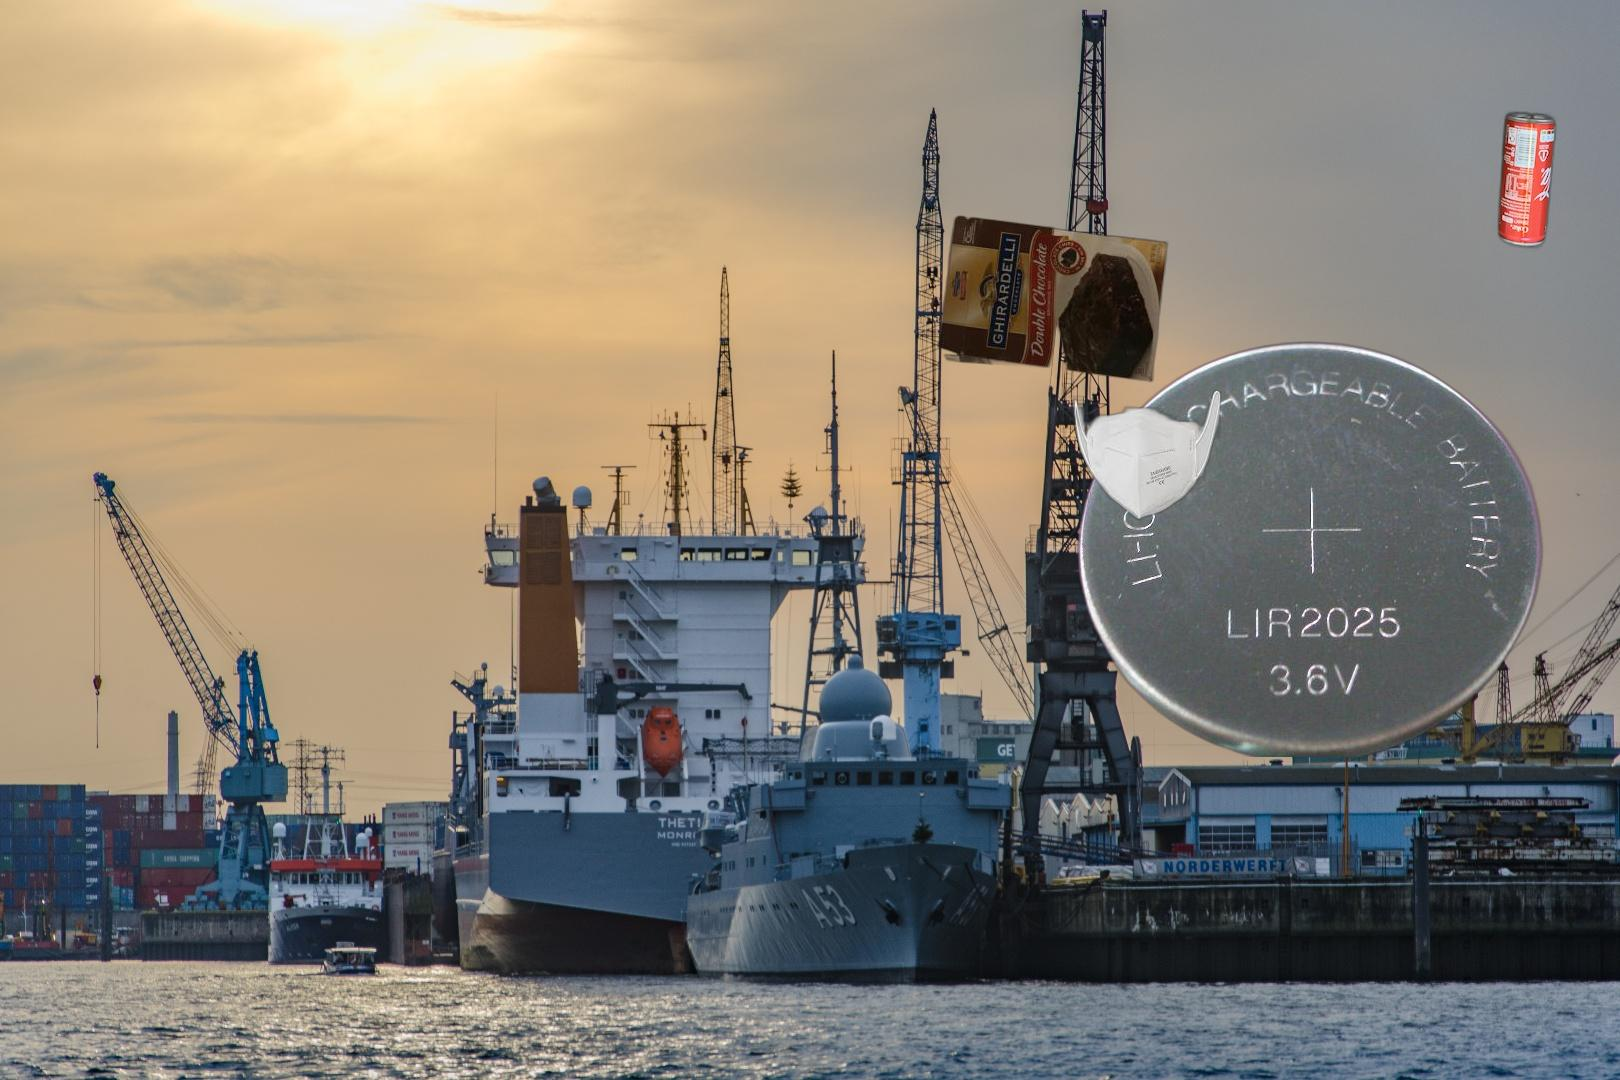battery: (1072, 337, 1548, 757)
metal-cans: (1493, 106, 1561, 253)
paper: (933, 212, 1172, 385)
trash: (1068, 387, 1223, 523)
